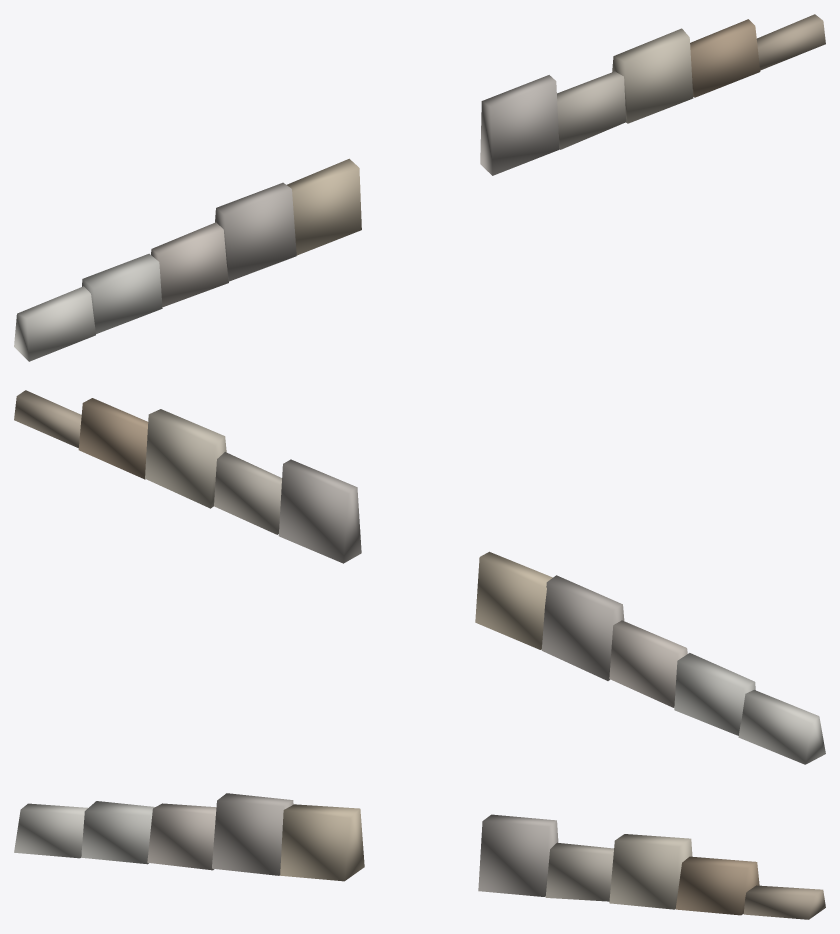
The model's file is farm_13_3_far.glb.
The picture shows the model from 3 angles, top to bottom: view 1: azimuth 30°, elevation 25°; view 2: azimuth 150°, elevation 25°; view 3: azimuth 330°, elevation 25°; orthographic projection. The views are drawn at different scales.
Visible parts, largest first — view 1: geometry_0; view 2: geometry_0; view 3: geometry_0.
Part boxes in pixels (<box>): geometry_0: <box>14,14,825,361</box>; geometry_0: <box>14,390,825,764</box>; geometry_0: <box>14,793,825,919</box>.
Bounding box in the file's own units: 17.92 × 3.74 × 1.19.
